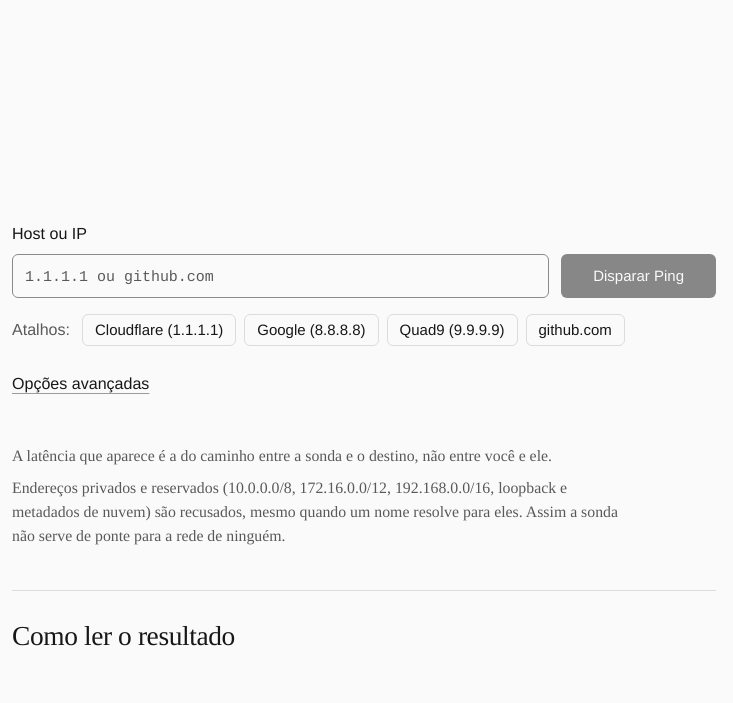
it: Ping (comportamento) › sucesso mostra as latências e a perda em %
The width and height of the screenshot is (733, 703).
Type "example.com" into the field.
click(281, 276); type("example.com")  # box [12, 254, 549, 298]
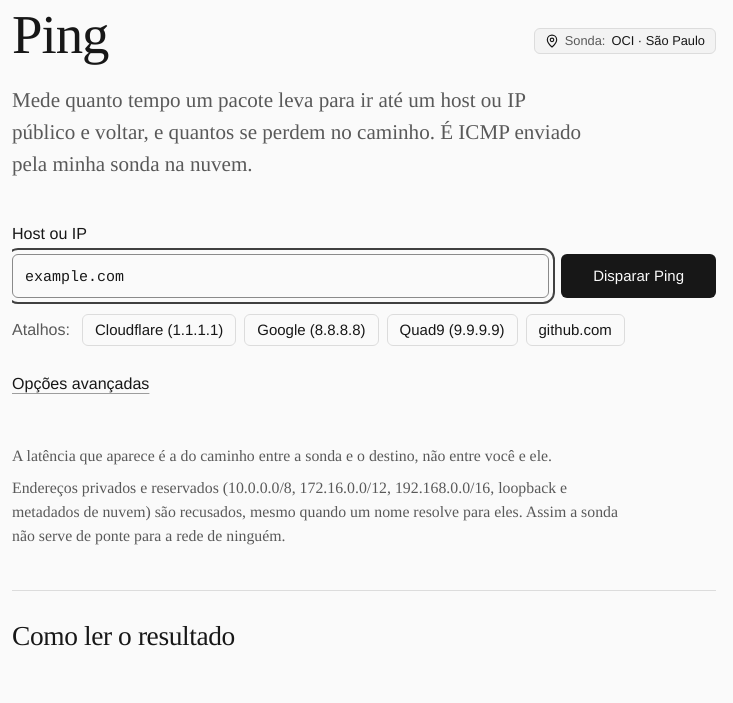
Click the button "Disparar Ping".
click(639, 276)  # box [561, 254, 716, 298]
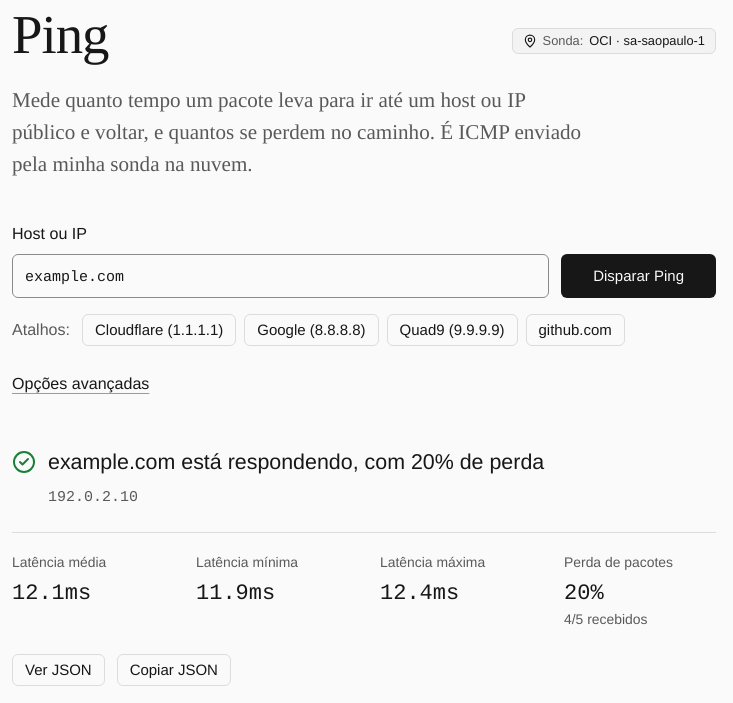
expect the text "12.1ms" is shown: met, box [12, 577, 91, 606]
expect the text "11.9ms" is shown: met, box [196, 577, 275, 606]
expect the text "12.4ms" is shown: met, box [380, 577, 459, 606]
